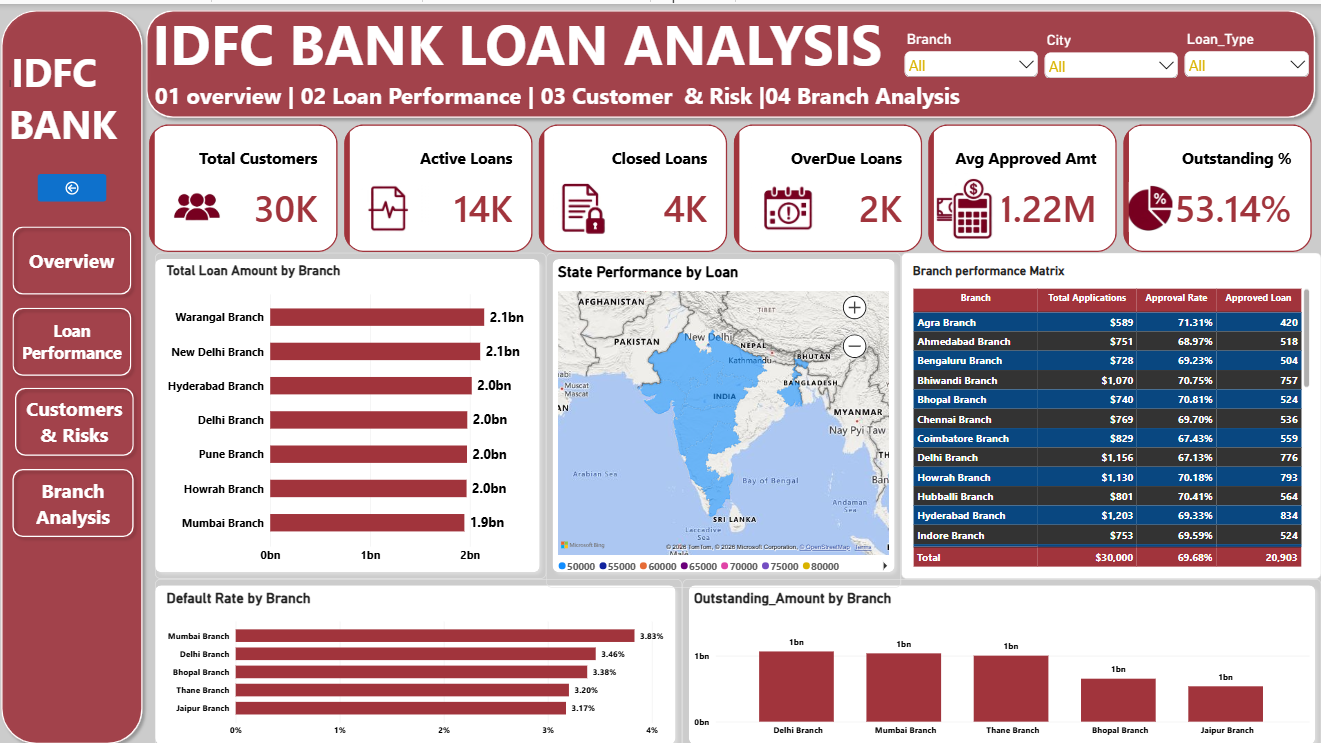

Layout of this report page (visuals, bound fields, positions):
{"tool":"powerbi","page":{"name":"Branch Analysis","canvas":[1920,1080],"ordinal":3},"visuals":[{"type":"shape","box":[209.9,0,1710.1,173.7],"z":0},{"type":"shape","box":[0,0,222.6,1080.4],"z":1000},{"type":"textbox","box":[228,1.8,1388,137.5],"z":2000},{"type":"cardVisual","fields":{"Data":["Loan_Clean Data.Total Customers","Loan_Clean Data.Closed Loans","Loan_Clean Data.Closed Loans1","Loan_Clean Data.OverDue Loan","Loan_Clean Data.Avg Approved Amt","Loan_Clean Data.OutStanding %"]},"box":[222.6,173.7,1684.8,186.4],"z":3000},{"type":"shape","box":[223.3,360,575,471.7],"z":4000},{"type":"shape","box":[798.3,360,513.3,471.7],"z":5000},{"type":"shape","box":[1361.7,360,558.3,471.7],"z":6000},{"type":"shape","box":[223.3,831.7,771.7,248.3],"z":7000},{"type":"shape","box":[995,831.7,925,248.3],"z":8000},{"type":"textbox","box":[231.7,110,1426,59.7],"z":9000},{"type":"slicer","fields":{"Values":["Loan_Clean Data.Branch"]},"box":[1312,38,202.7,67],"z":10000},{"type":"slicer","fields":{"Values":["Loan_Clean Data.City"]},"box":[1514.7,39.8,202.7,67],"z":11000},{"type":"slicer","fields":{"Values":["Loan_Clean Data.Loan_Type"]},"box":[1717.4,38,190,67],"z":12000},{"type":"clusteredBarChart","fields":{"Category":["Loan_Clean Data.Branch"],"Y":["Loan_Clean Data.Total Loan Amount"]},"box":[231.7,360,566.7,471.7],"z":13000},{"type":"filledMap","title":"State Performance by Loan","fields":{"Category":["Loan_Clean Data.State"],"Series":["Loan_Clean Data.Loan_Amount"]},"box":[798.3,360,513.3,485],"z":14000},{"type":"tableEx","title":"Branch performance Matrix","fields":{"Values":["Loan_Clean Data.Branch","Loan_Clean Data.Total Applications","Loan_Clean Data.Approval Rate","Loan_Clean Data.Approved Loan"]},"box":[1311.7,360,608.3,471.7],"z":15000},{"type":"actionButton","box":[61.7,246.7,100,40],"z":16000},{"type":"clusteredBarChart","fields":{"Category":["Loan_Clean Data.Branch"],"Y":["Loan_Clean Data.Default Rate"]},"box":[231.7,831.7,763.3,248.3],"z":17000},{"type":"clusteredColumnChart","title":"Outstanding_Amount by Branch","fields":{"Category":["Loan_Clean Data.Branch"],"Y":["Sum(Loan_Clean Data.Outstanding_Amount)"]},"box":[995,831.7,925,248.3],"z":18000},{"type":"actionButton","box":[16.7,313.3,190,116.7],"z":19000},{"type":"actionButton","box":[16.7,430,190,116.7],"z":20000},{"type":"actionButton","box":[20,546.7,190,116.7],"z":21000},{"type":"actionButton","box":[16.7,663.3,193.3,116.7],"z":22000},{"type":"image","box":[244.3,155.6,105,275.1],"z":23000},{"type":"image","box":[523,155.6,106.8,275.1],"z":24000},{"type":"image","box":[1091.2,155.6,112.2,275.1],"z":25000},{"type":"image","box":[1360.9,155.6,97.7,275.1],"z":26000},{"type":"image","box":[1641.4,139.3,63.3,309.5],"z":27000},{"type":"image","box":[798.1,148.4,95.9,275.1],"z":28000},{"type":"textbox","box":[19.9,59.7,211.7,217.2],"z":28001}]}

Visuals, with their boxes in screenshot pixels (x1, y1, x2, y2), scaled from the page's 1920x1080 canvas onto the 1321x743 screenshot:
shape: bbox(144, 0, 1320, 119)
shape: bbox(0, 0, 153, 742)
textbox: bbox(157, 1, 1112, 96)
cardVisual - Loan_Clean Data.Total Customers x Loan_Clean Data.Closed Loans: bbox(153, 119, 1312, 248)
shape: bbox(154, 248, 549, 572)
shape: bbox(549, 248, 902, 572)
shape: bbox(937, 248, 1320, 572)
shape: bbox(154, 572, 685, 742)
shape: bbox(685, 572, 1320, 742)
textbox: bbox(159, 76, 1141, 117)
slicer - Loan_Clean Data.Branch: bbox(903, 26, 1042, 72)
slicer - Loan_Clean Data.City: bbox(1042, 27, 1182, 73)
slicer - Loan_Clean Data.Loan_Type: bbox(1182, 26, 1312, 72)
clusteredBarChart - Loan_Clean Data.Branch x Loan_Clean Data.Total Loan Amount: bbox(159, 248, 549, 572)
"State Performance by Loan" filledMap: bbox(549, 248, 902, 581)
"Branch performance Matrix" tableEx: bbox(902, 248, 1320, 572)
actionButton: bbox(42, 170, 111, 197)
clusteredBarChart - Loan_Clean Data.Branch x Loan_Clean Data.Default Rate: bbox(159, 572, 685, 742)
"Outstanding_Amount by Branch" clusteredColumnChart: bbox(685, 572, 1320, 742)
actionButton: bbox(11, 216, 142, 296)
actionButton: bbox(11, 296, 142, 376)
actionButton: bbox(14, 376, 144, 456)
actionButton: bbox(11, 456, 144, 537)
image: bbox(168, 107, 240, 296)
image: bbox(360, 107, 433, 296)
image: bbox(751, 107, 828, 296)
image: bbox(936, 107, 1004, 296)
image: bbox(1129, 96, 1173, 309)
image: bbox(549, 102, 615, 291)
textbox: bbox(14, 41, 159, 190)
